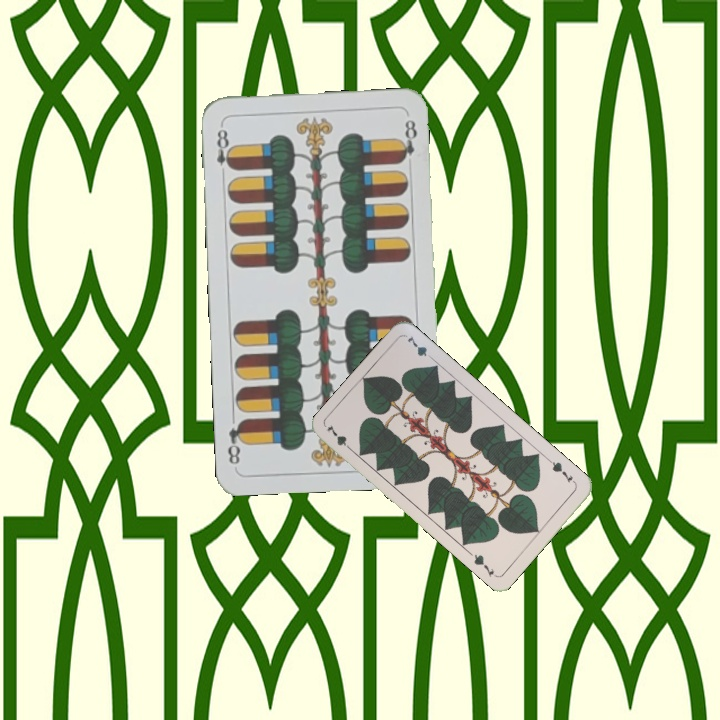E8: (212, 121, 236, 180)
G7: (322, 420, 356, 455), (545, 456, 576, 485)
